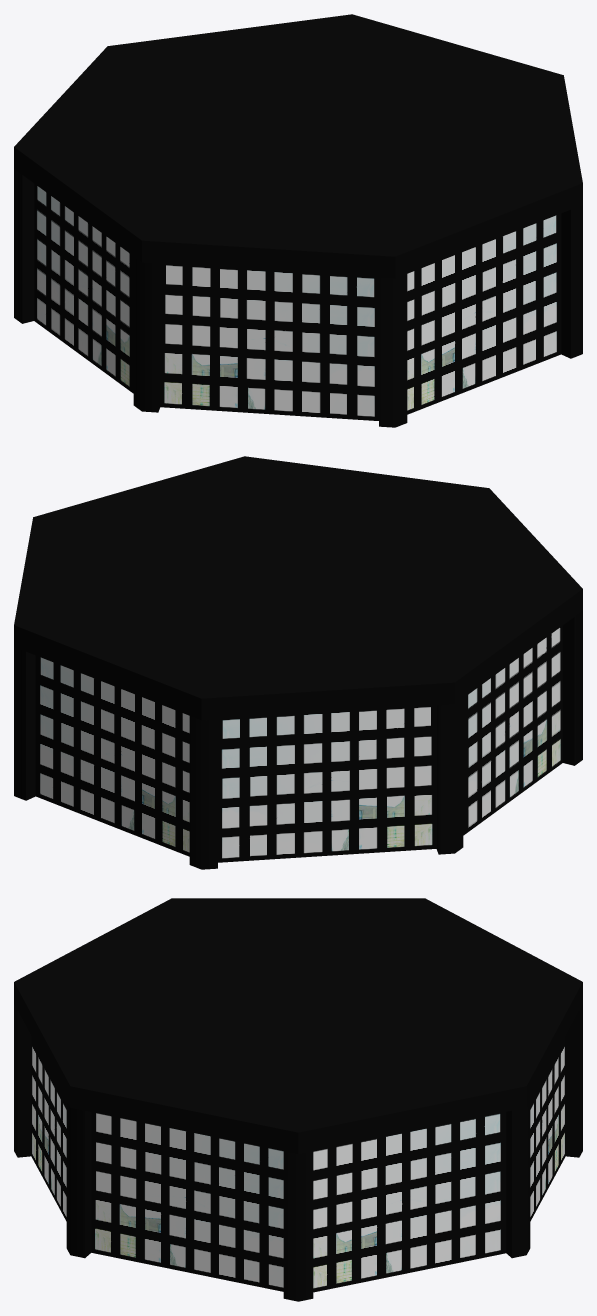
File: building34.FBX
3 renders of one model, top to bottom at view 1: azimuth 30°, elevation 25°; view 2: azimuth 150°, elevation 25°; view 3: azimuth 270°, elevation 25°, orthographic.
Visible parts, largest first — view 1: Cylinder002; view 2: Cylinder002; view 3: Cylinder002.
Boxes of the visible parts, x1,y1,x2,y2 form: Cylinder002: (14, 14, 582, 427); Cylinder002: (14, 456, 582, 869); Cylinder002: (14, 898, 582, 1301).
Bounding box in the file's own units: 135 × 45.44 × 139.
